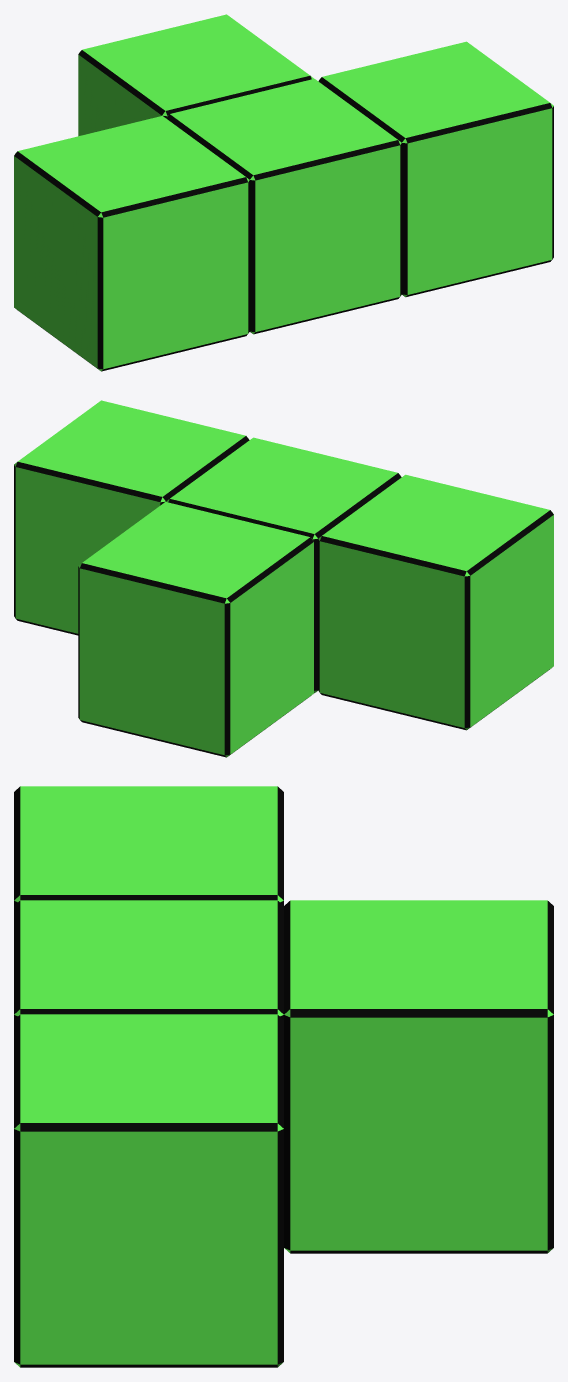
File: tetromino1.fbx
3 renders of one model, top to bottom at view 1: azimuth 30°, elevation 25°; view 2: azimuth 150°, elevation 25°; view 3: azimuth 270°, elevation 25°, orthographic. The views are drawn at different scales.
Visible parts, largest first — view 1: Tetromino1; view 2: Tetromino1; view 3: Tetromino1.
Boxes of the visible parts, left/top/right/bottom form: Tetromino1: left=14, top=14, right=553, bottom=371; Tetromino1: left=14, top=400, right=553, bottom=757; Tetromino1: left=14, top=786, right=553, bottom=1367.
Bounding box in the file's own units: 600 × 200 × 400.
